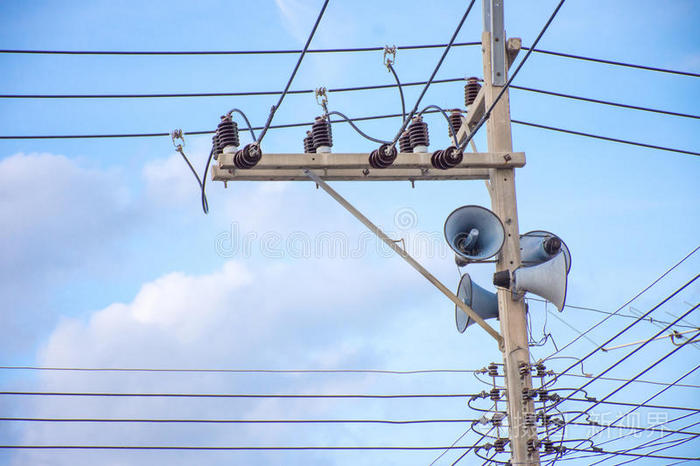insulator: (368, 140, 398, 169), (432, 144, 463, 168), (234, 145, 262, 170)
